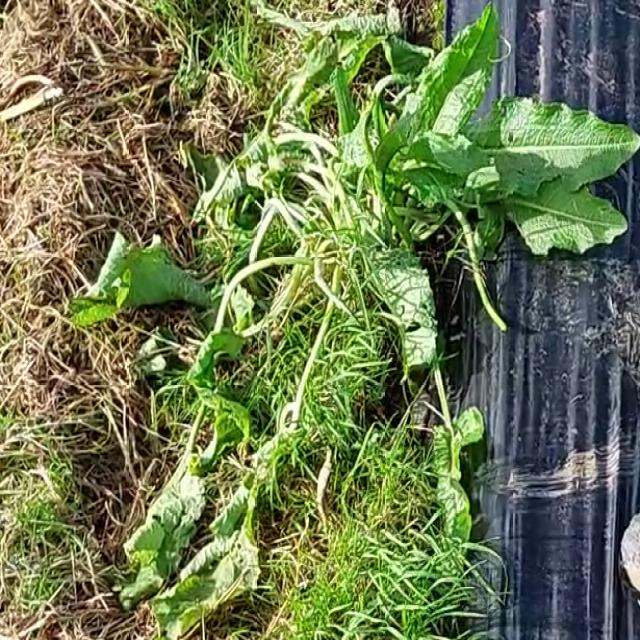organic waste: (82, 0, 633, 610)
